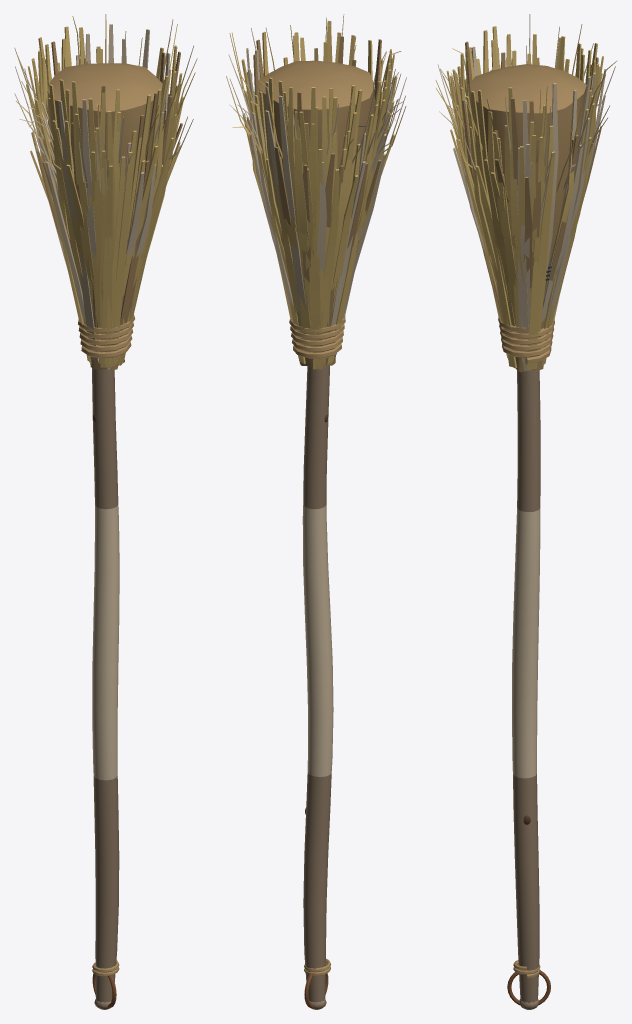
File: tool_broom.fbx
The picture shows the model from 3 angles, left to right: view 1: azimuth 30°, elevation 25°; view 2: azimuth 150°, elevation 25°; view 3: azimuth 270°, elevation 25°; orthographic projection.
Visible parts, largest first — view 1: Tool_Broom_Straw, Tool_Broom_Handle, Tool_Broom_Binding; view 2: Tool_Broom_Straw, Tool_Broom_Handle, Tool_Broom_Binding; view 3: Tool_Broom_Straw, Tool_Broom_Handle, Tool_Broom_Binding.
Boxes of the visible parts, bbox=[...] form: Tool_Broom_Straw: bbox=[14, 14, 197, 370]; Tool_Broom_Handle: bbox=[92, 368, 119, 1009]; Tool_Broom_Binding: bbox=[78, 314, 134, 1008]; Tool_Broom_Straw: bbox=[226, 14, 406, 369]; Tool_Broom_Handle: bbox=[302, 365, 333, 1009]; Tool_Broom_Binding: bbox=[289, 316, 345, 1008]; Tool_Broom_Straw: bbox=[435, 14, 617, 372]; Tool_Broom_Handle: bbox=[512, 370, 540, 1009]; Tool_Broom_Binding: bbox=[498, 265, 554, 1005].
Size of the model in its own units: 31.2 by 181 by 31.15.
